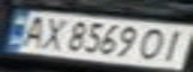5: (81, 19, 106, 55)
6: (100, 21, 121, 56)
8: (63, 18, 90, 53)
9: (115, 24, 142, 60)
A: (12, 12, 51, 47)
I: (154, 27, 193, 63)
O: (136, 26, 172, 62)
X: (33, 15, 72, 52)
